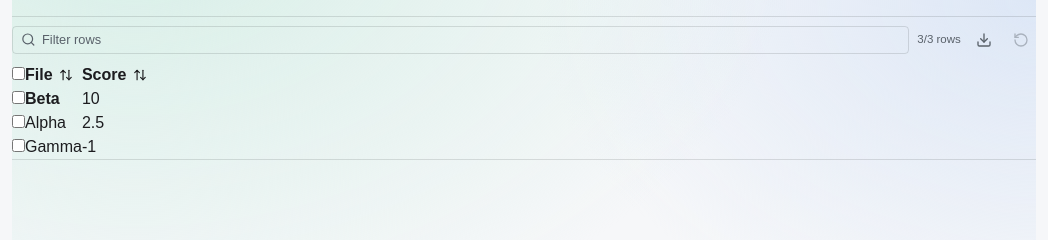
Scenario: ResultTable › filters, preserves selection by source row, and resets
Click the checkbox named "Select row 1".
click(18, 97)  # box [12,91,25,104]
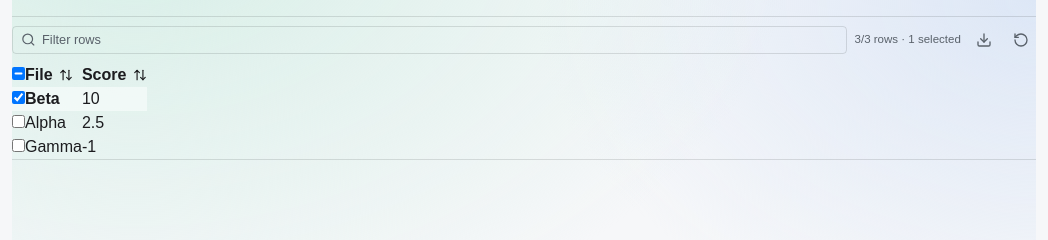
Click the button with aria-label "Sort by File".
click(53, 75)  # box [25,63,82,87]
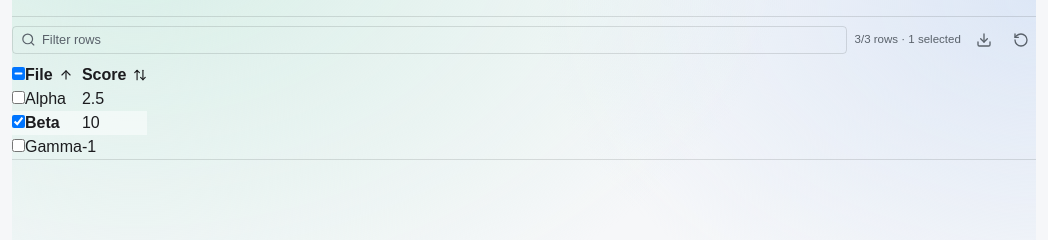
Result: the checkbox named "Select row 1" is checked at [12,115,25,128]
Type "ALPHA" into the search field.
click(440, 40); type("ALPHA")  # box [42,30,838,49]
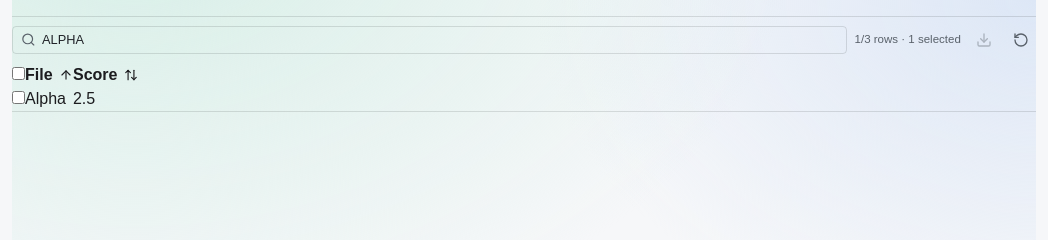
Result: the button named "Export table as CSV" is disabled at [969,25,998,55]
Click the checkbox named "Select all visible rows".
click(18, 73)  # box [12,67,25,80]
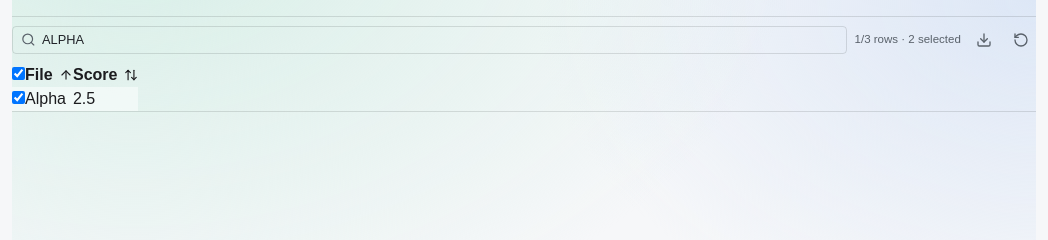
Result: the message shows "2 selected" at [898,33,961,45]
Replace the text in the search field with "absent" at point(440, 40), box [42,30,838,49]
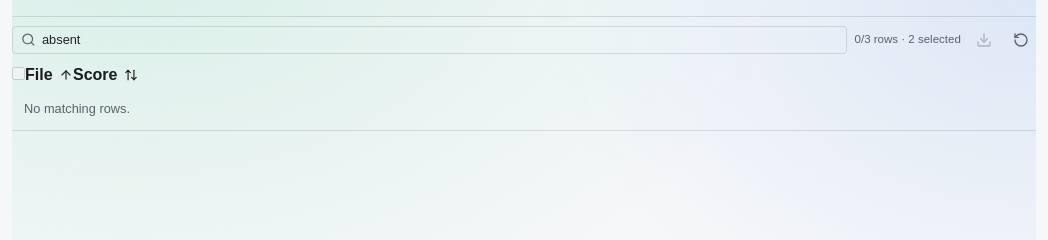
Result: the text "No matching rows." is shown at [24,101,130,116]
Click the button named "Reset table".
click(1021, 40)  # box [1006,25,1036,55]
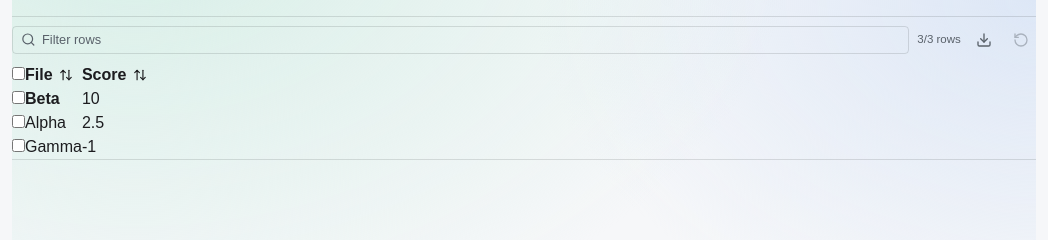
Result: the message reads "3/3 rows" at [917,31,961,48]
